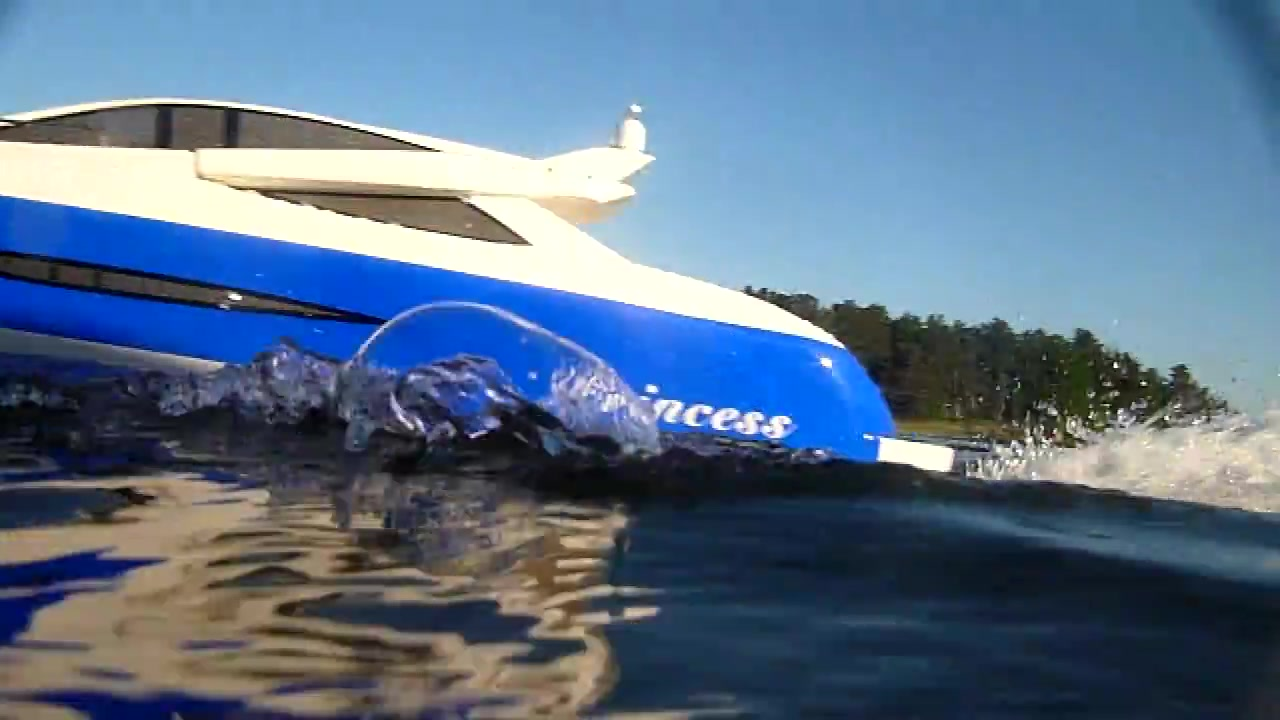boat: (4, 97, 959, 475)
